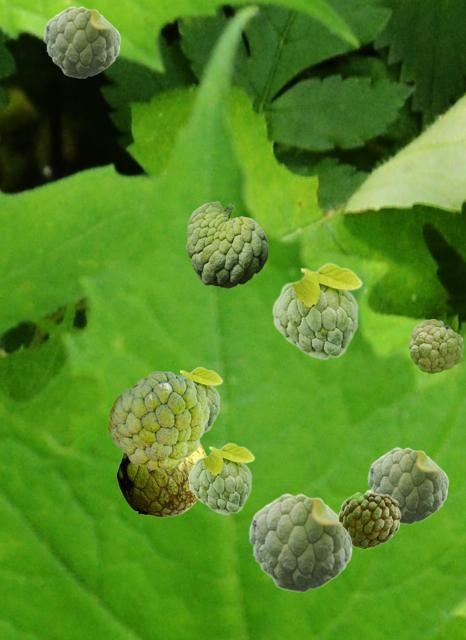atis: (248, 493, 353, 591), (108, 371, 208, 468), (271, 262, 362, 359), (186, 201, 267, 287), (116, 443, 206, 516), (367, 447, 448, 523), (43, 6, 120, 77), (187, 442, 254, 514), (337, 489, 400, 548), (179, 366, 222, 432), (409, 319, 462, 372)
